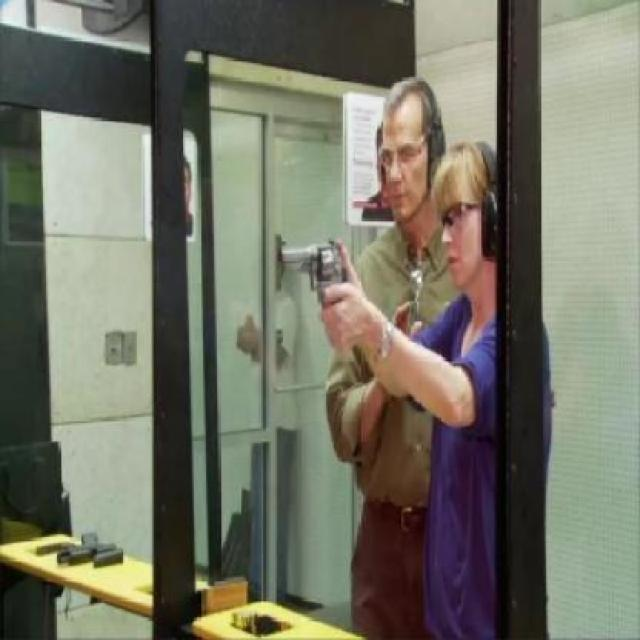gun: (277, 237, 352, 314)
